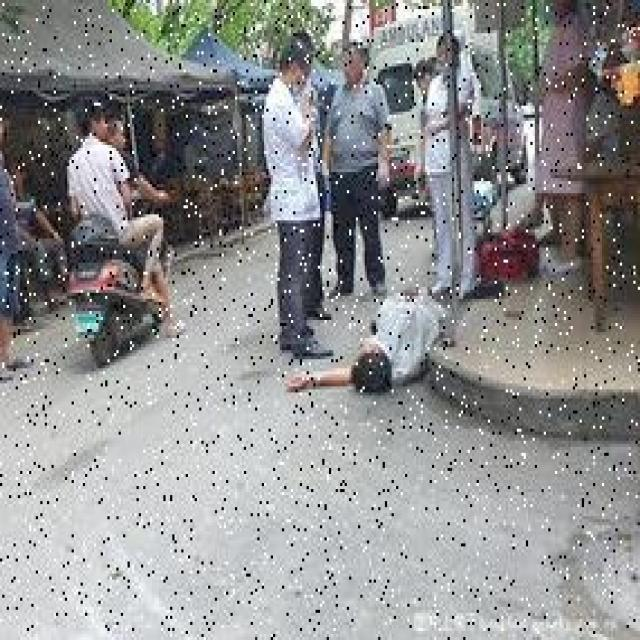fall: (280, 284, 436, 392)
